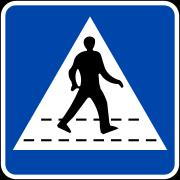Pedestrian Crossing: (12, 17, 174, 162)
